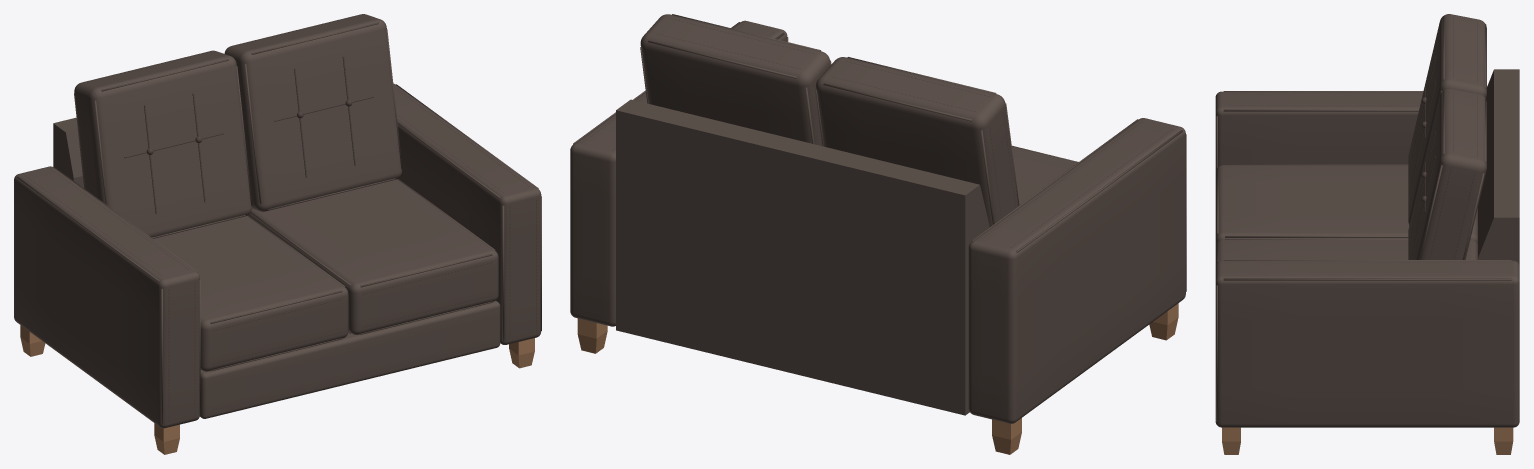
The model's file is benza_140x95.glb.
3 renders of one model, left to right at view 1: azimuth 30°, elevation 25°; view 2: azimuth 150°, elevation 25°; view 3: azimuth 270°, elevation 25°, orthographic. The views are drawn at different scales.
Visible parts, largest first — view 1: p1, p2, p0; view 2: p1, p0, p2; view 3: p1, p2, p0.
Boxes of the visible parts, left/top/right/bottom form: p1: left=14, top=14, right=541, bottom=428; p2: left=23, top=15, right=536, bottom=421; p0: left=20, top=325, right=534, bottom=454; p1: left=570, top=14, right=1186, bottom=423; p0: left=577, top=303, right=1178, bottom=454; p2: left=581, top=18, right=1172, bottom=247; p1: left=1215, top=14, right=1519, bottom=427; p2: left=1228, top=16, right=1477, bottom=259; p0: left=1222, top=427, right=1513, bottom=454.
Bounding box in the file's own units: 1.4 × 0.9642 × 0.9506.
Materials: 3 (2 with a texture image).
